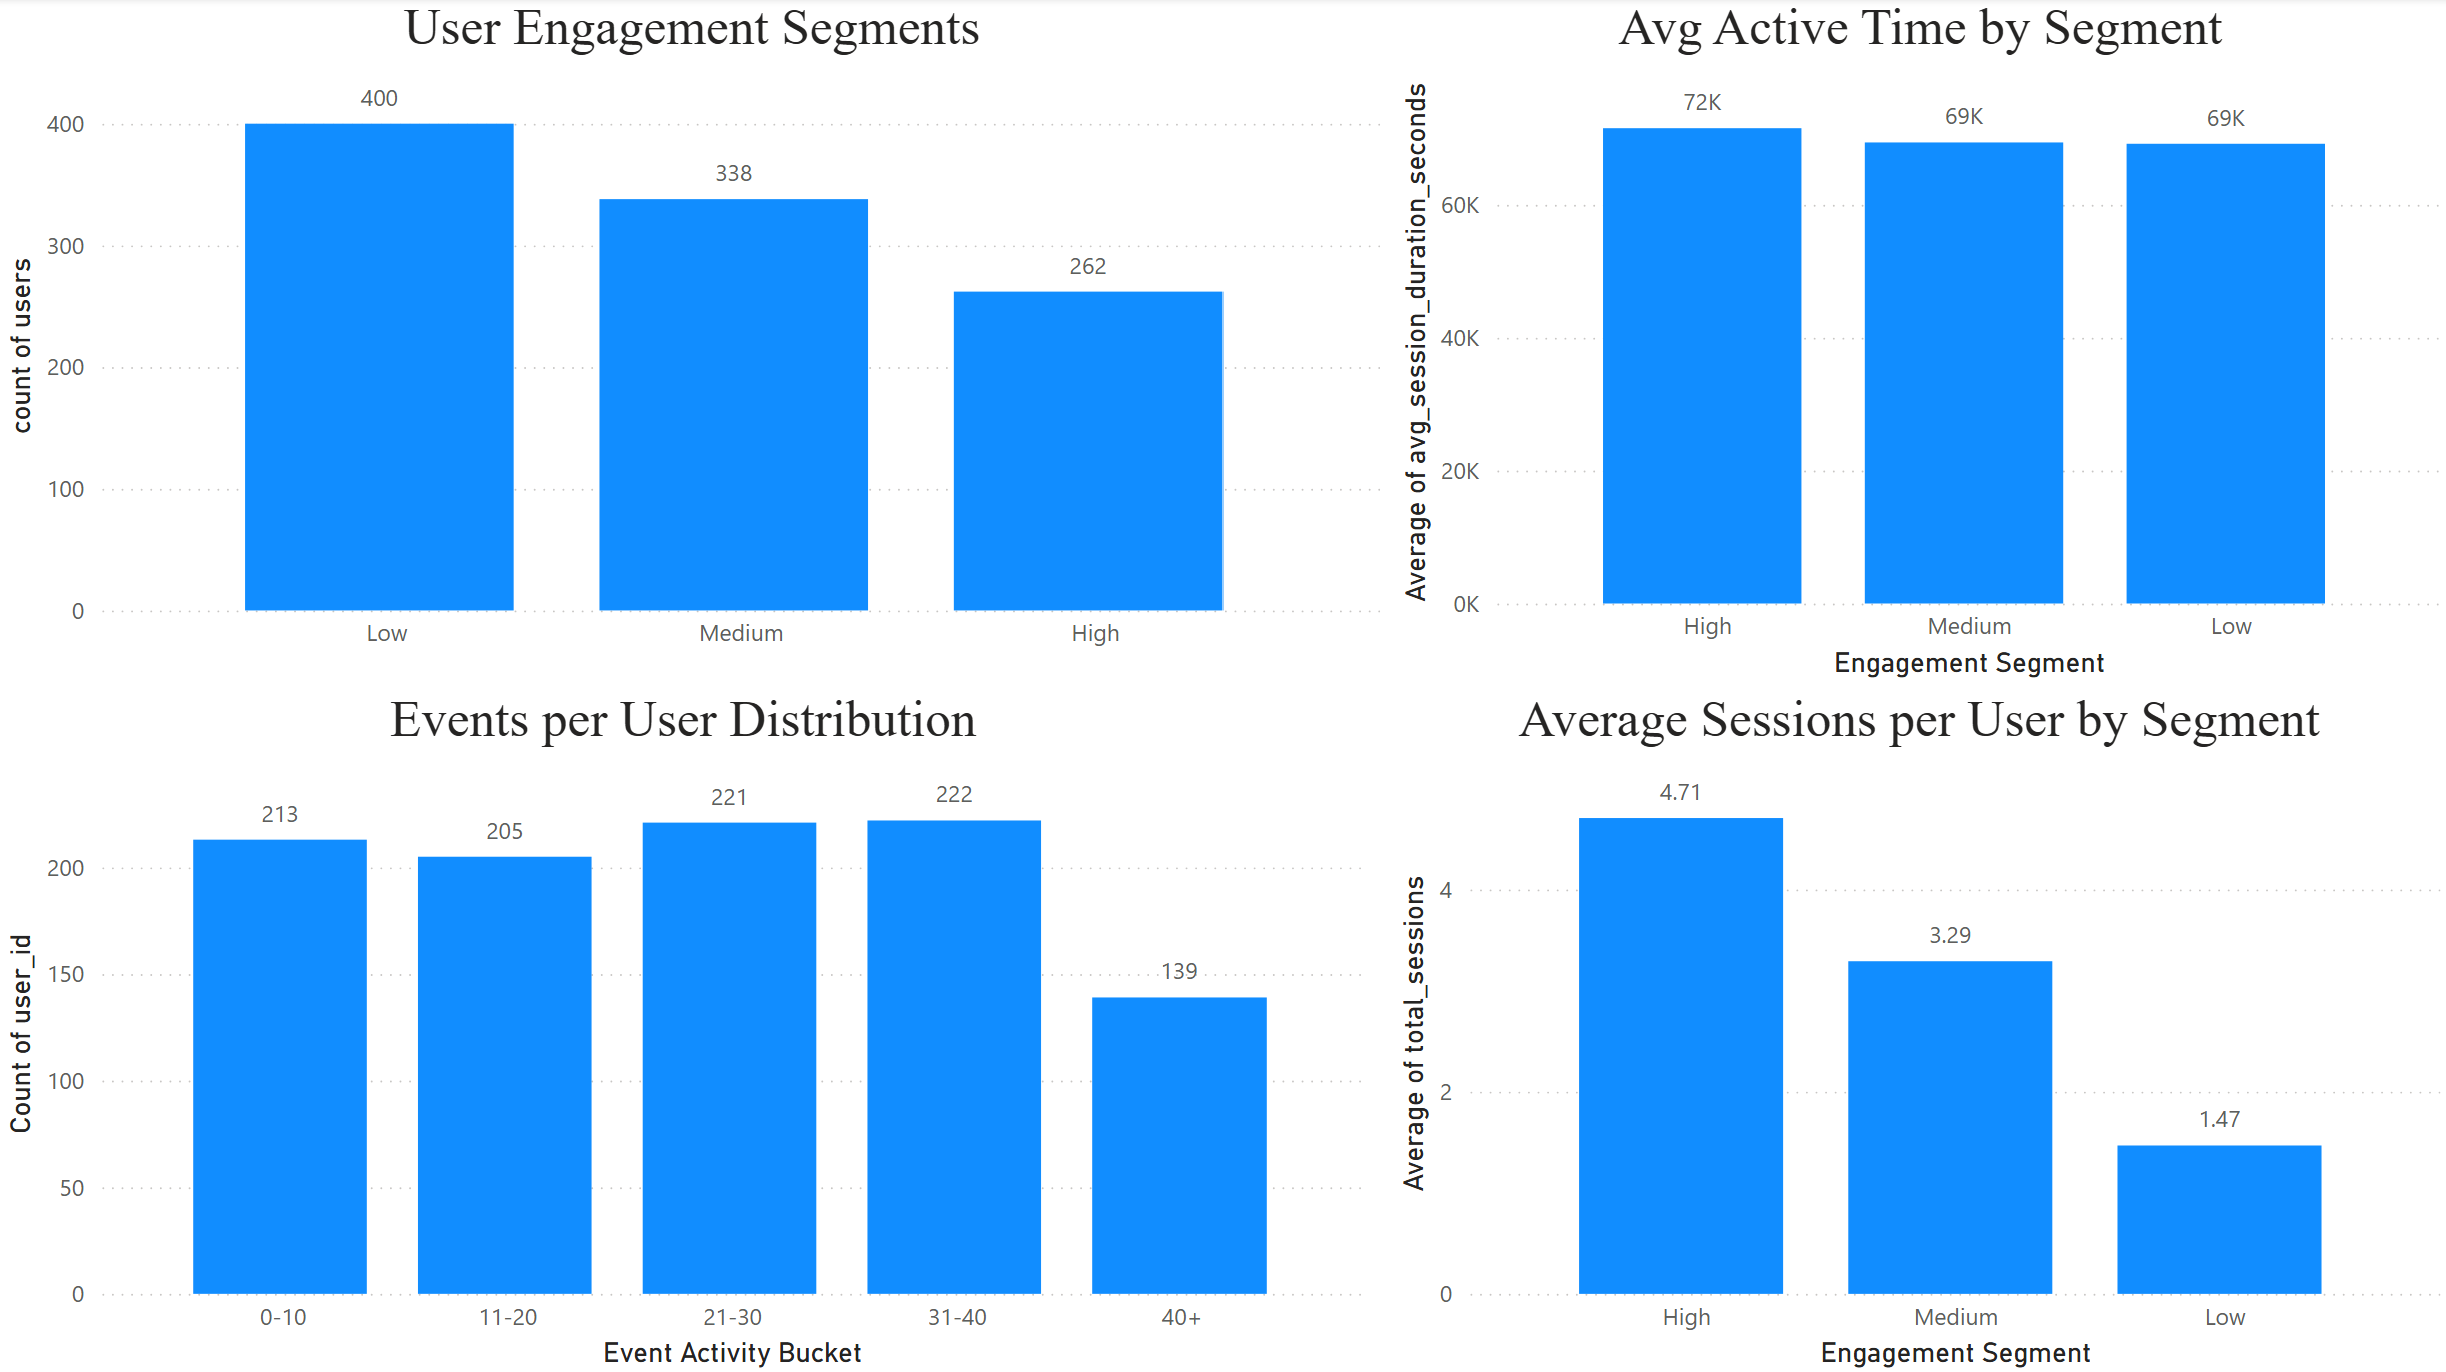

Layout of this report page (visuals, bound fields, positions):
{"tool":"powerbi","page":{"name":"User Analytics & Segmentation","canvas":[1280,720],"ordinal":1},"visuals":[{"type":"clusteredColumnChart","title":"User Engagement Segments","fields":{"Category":["public fct_user_analytics.Engagement Segment"],"Y":["CountNonNull(public fct_user_analytics.user_id)"]},"box":[0,0,726.9,363.5],"z":0},{"type":"clusteredColumnChart","title":"Events per User Distribution","fields":{"Y":["CountNonNull(public fct_user_analytics.user_id)"],"Category":["public fct_user_analytics.Event Activity Bucket"]},"box":[0,360.6,718,359],"z":1},{"type":"clusteredColumnChart","title":"Avg Active Time by Segment","fields":{"Category":["public fct_user_analytics.Engagement Segment"],"Y":["Avg(public fct_user_analytics.avg_session_duration_seconds)"]},"box":[726.9,0,553.1,359.8],"z":2},{"type":"clusteredColumnChart","title":"Average Sessions per User by Segment","fields":{"Category":["public fct_user_analytics.Engagement Segment"],"Y":["Avg(public fct_user_analytics.total_sessions)"]},"box":[726,361,554,359],"z":3}]}

Visuals, with their boxes in screenshot pixels (x1, y1, x2, y2), scaled from the page's 1280x720 canvas onto the 2446x1372 screenshot:
"User Engagement Segments" clusteredColumnChart: box(0, 0, 1389, 693)
"Events per User Distribution" clusteredColumnChart: box(0, 687, 1372, 1371)
"Avg Active Time by Segment" clusteredColumnChart: box(1389, 0, 2445, 686)
"Average Sessions per User by Segment" clusteredColumnChart: box(1387, 688, 2445, 1371)
